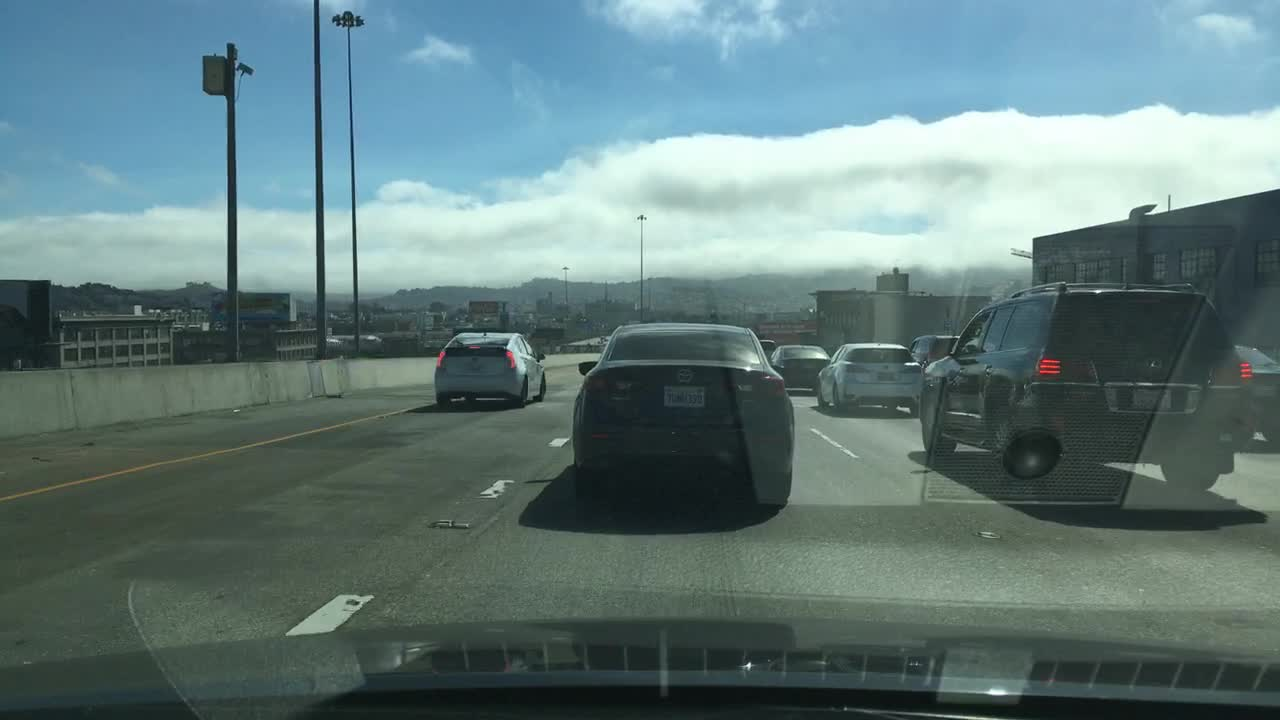car: (917, 278, 1258, 493), (571, 321, 796, 517), (432, 329, 547, 410), (816, 339, 926, 414), (1226, 341, 1278, 451), (767, 343, 833, 392), (906, 333, 964, 370), (757, 336, 776, 359)
